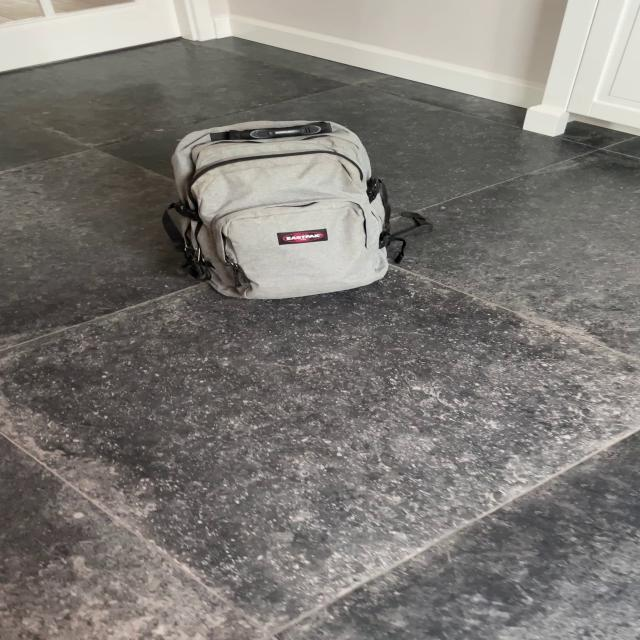backpack: (150, 113, 408, 306)
